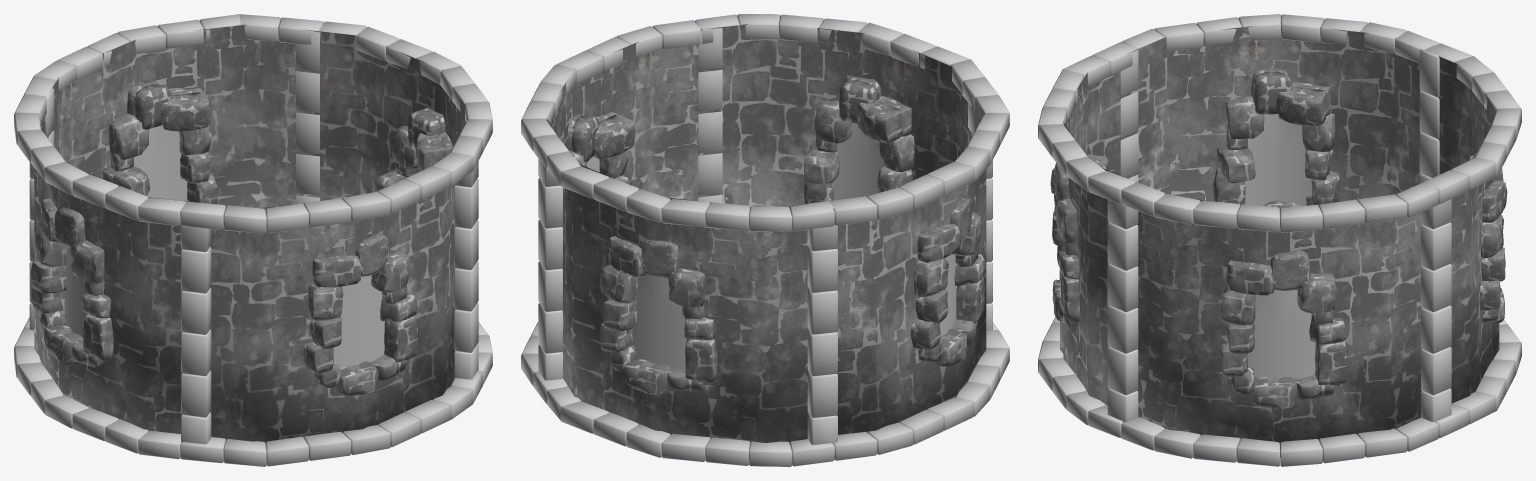
The model's file is Tower_Wall_Top_Window_02.fbx.
The picture shows the model from 3 angles, left to right: view 1: azimuth 30°, elevation 25°; view 2: azimuth 150°, elevation 25°; view 3: azimuth 270°, elevation 25°; orthographic projection.
Visible parts, largest first — view 1: Tower_Wall_Mid_01.003, rock_1.075; view 2: Tower_Wall_Mid_01.003, rock_1.075; view 3: Tower_Wall_Mid_01.003, rock_1.075.
Boxes of the visible parts, x1=… form: Tower_Wall_Mid_01.003: x1=14, y1=14, x2=492, y2=466; rock_1.075: x1=31, y1=80, x2=452, y2=395; Tower_Wall_Mid_01.003: x1=521, y1=14, x2=1009, y2=466; rock_1.075: x1=568, y1=77, x2=985, y2=397; Tower_Wall_Mid_01.003: x1=1038, y1=14, x2=1521, y2=466; rock_1.075: x1=1050, y1=67, x2=1507, y2=409.
Size of the model in its own units: 8.8 by 5.04 by 8.81.
